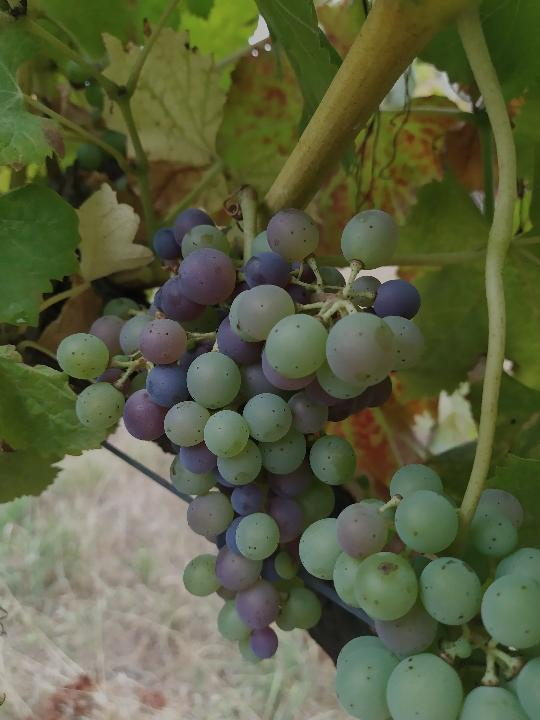grape: (52, 204, 426, 670)
